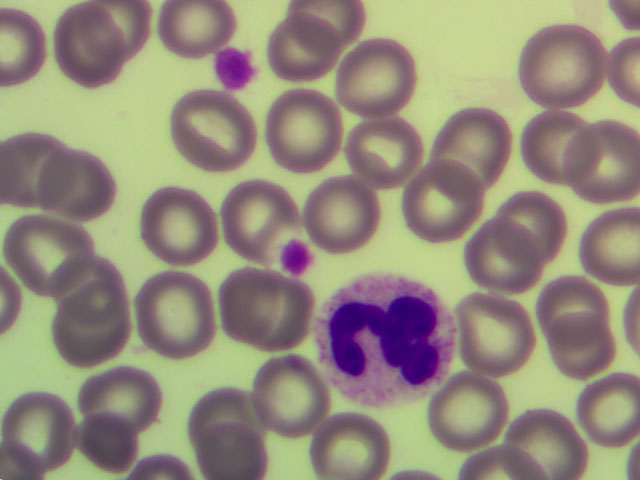Platelets: (285, 243, 316, 280), (219, 50, 249, 87)
RBC: (527, 29, 609, 105), (144, 276, 218, 359), (434, 113, 507, 196), (523, 115, 605, 186), (462, 292, 535, 370), (343, 36, 413, 116), (268, 96, 337, 177), (146, 188, 218, 264), (13, 219, 94, 286), (175, 89, 250, 160), (3, 137, 76, 209), (4, 396, 74, 471), (408, 163, 476, 240), (462, 224, 540, 289), (306, 181, 381, 248), (257, 364, 322, 440), (57, 4, 122, 80), (498, 193, 566, 263), (84, 370, 162, 431), (576, 134, 640, 206), (59, 295, 127, 362), (537, 282, 611, 343), (308, 420, 383, 480), (221, 267, 281, 341), (548, 313, 614, 380), (194, 393, 263, 456), (577, 216, 640, 285), (349, 121, 412, 189), (505, 408, 576, 468), (567, 375, 636, 434), (41, 153, 111, 211), (270, 20, 334, 83), (438, 382, 500, 445), (230, 183, 281, 259), (57, 260, 119, 321), (152, 4, 228, 51), (200, 426, 263, 480), (73, 414, 133, 468), (293, 1, 359, 46), (609, 44, 640, 118)
WBC: (325, 278, 446, 414)
